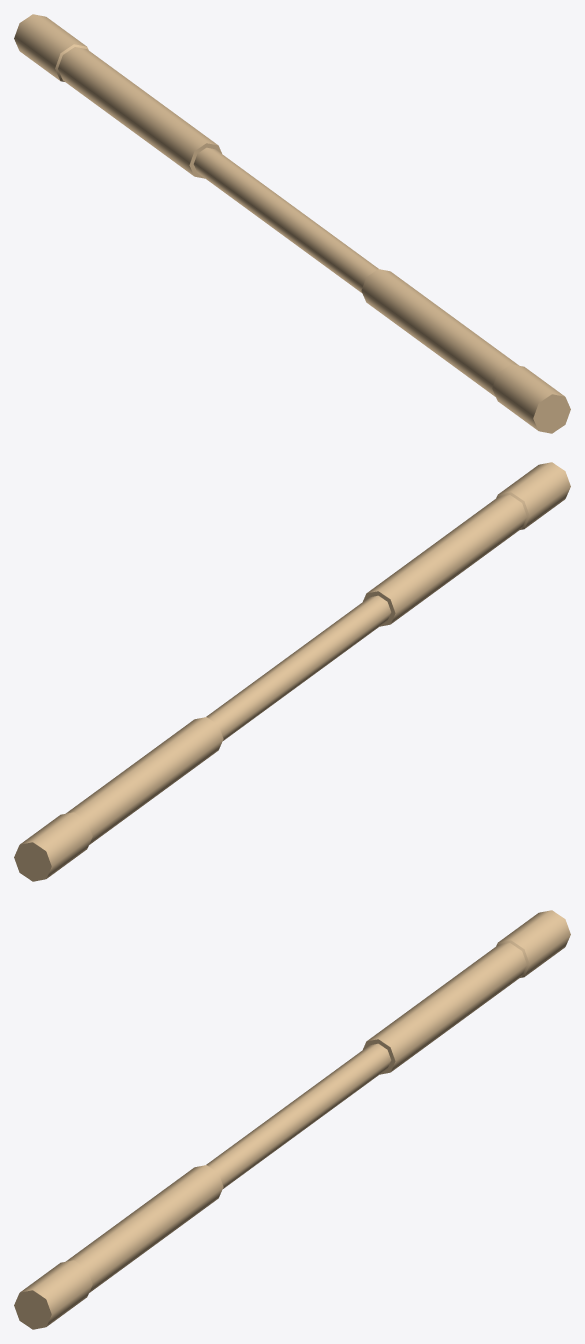
Rendered from muren_gun.glb.
3 renders of one model, top to bottom at view 1: azimuth 30°, elevation 25°; view 2: azimuth 150°, elevation 25°; view 3: azimuth 330°, elevation 25°, orthographic.
Parts seen in each view (by area): view 1: gun; view 2: gun; view 3: gun.
Boxes of the visible parts, box(x1,y1,x2,y2) form: gun: box(14, 14, 570, 433); gun: box(14, 462, 570, 881); gun: box(14, 910, 570, 1329).
Size of the model in its own units: 0.0968 by 0.0968 by 2.3.
